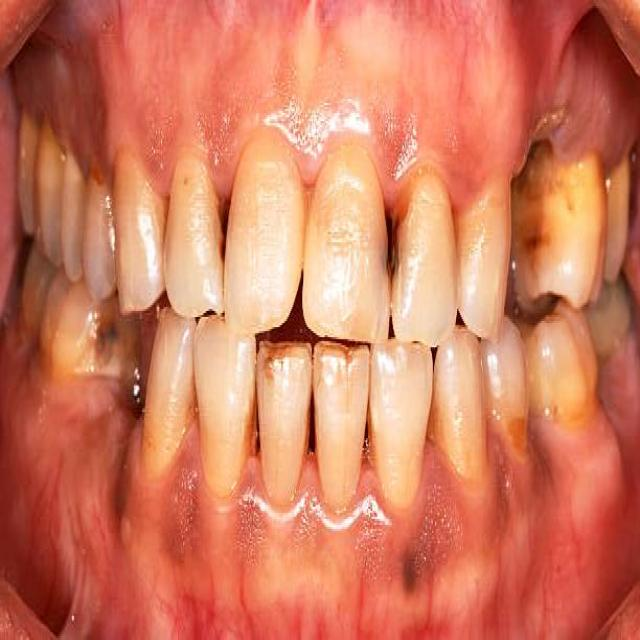caries: (373, 194, 417, 299), (87, 307, 126, 384), (520, 212, 554, 276), (502, 408, 533, 472)
